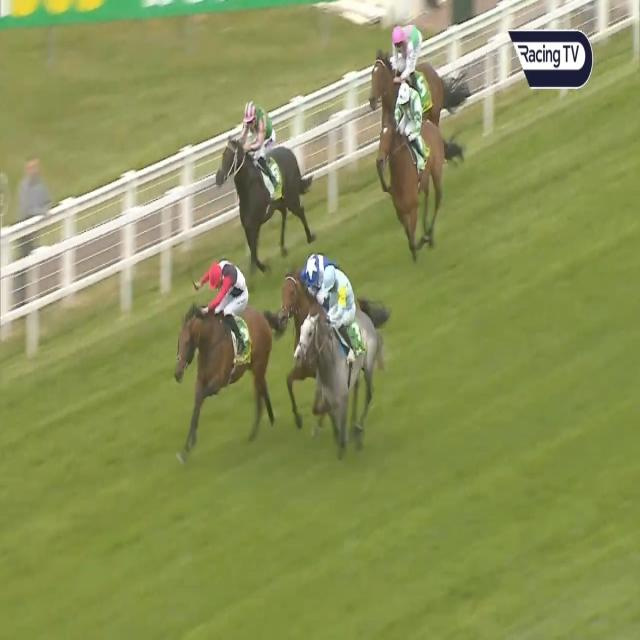horses-racing: (154, 262, 288, 440), (378, 80, 473, 280), (302, 230, 389, 445), (220, 96, 319, 243), (360, 15, 446, 110), (280, 238, 334, 332)
